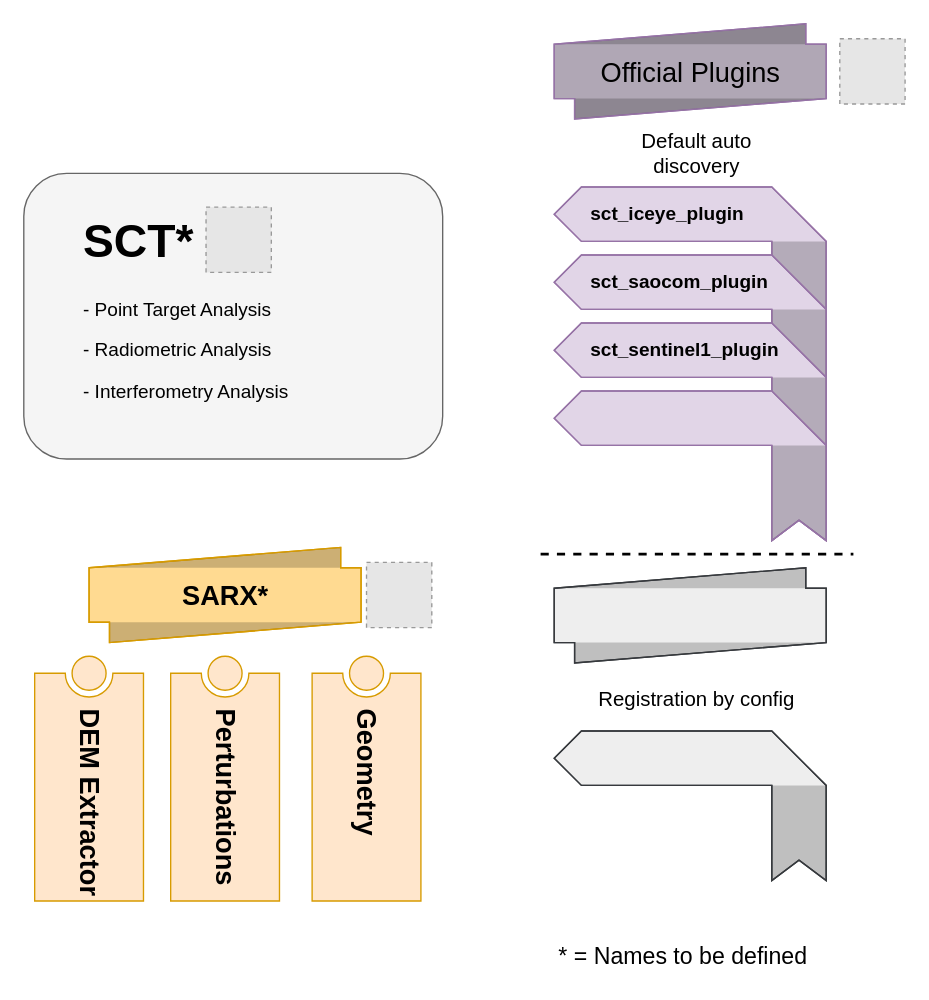
Some shapes in this 929 by 1000 pixel diagram are drawn without their labels. Grey dashed boxes stand in for pictures. The shapes that lost their labels are listed below. From the top down, each one's centre as x and y in pixels, then its label:
pixel 689 465: sct_novasar1_plugin
pixel 689 614: Custom Plugins
pixel 689 805: user developed plugins
